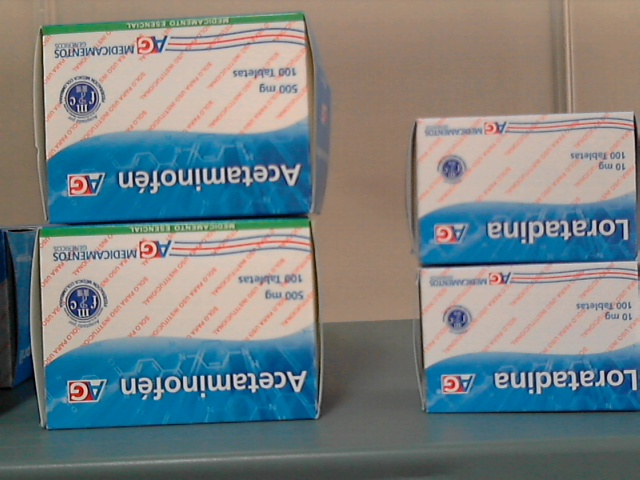AG: (43, 229, 319, 422), (48, 17, 309, 215), (421, 115, 637, 260), (422, 268, 640, 408)
